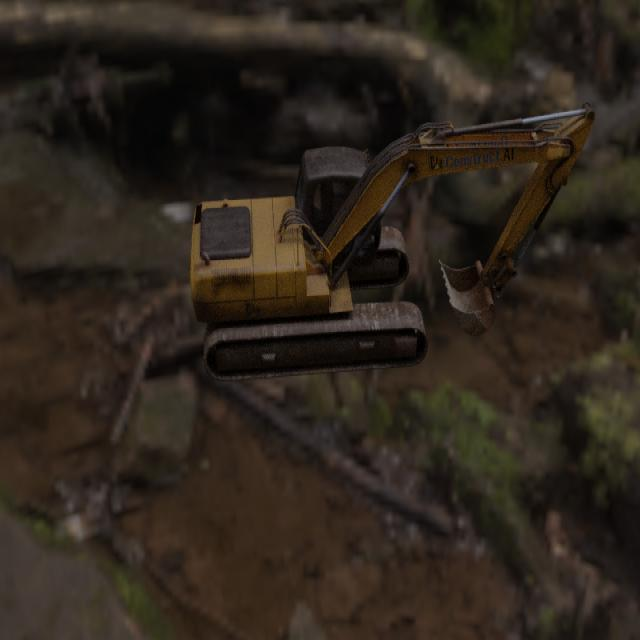excavator: (189, 100, 595, 381)
